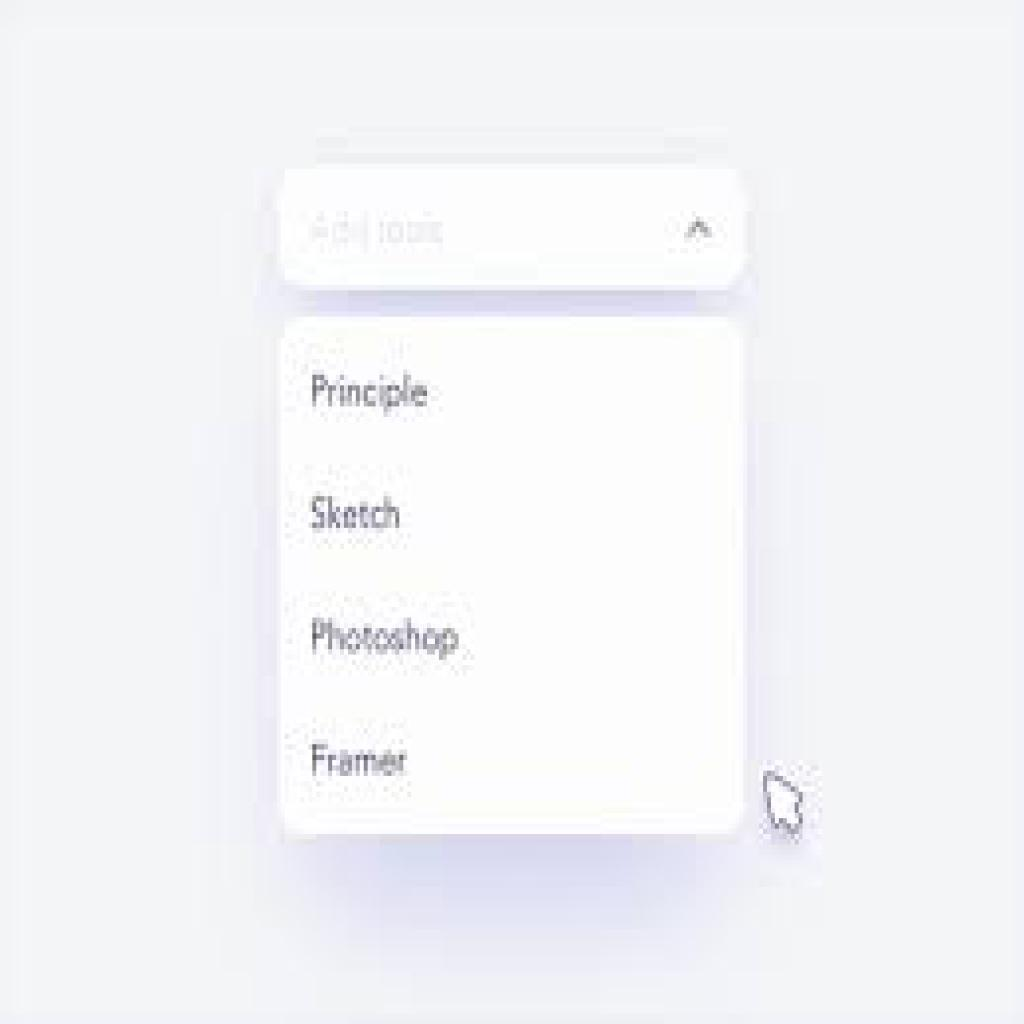dropdown: (277, 166, 747, 289)
